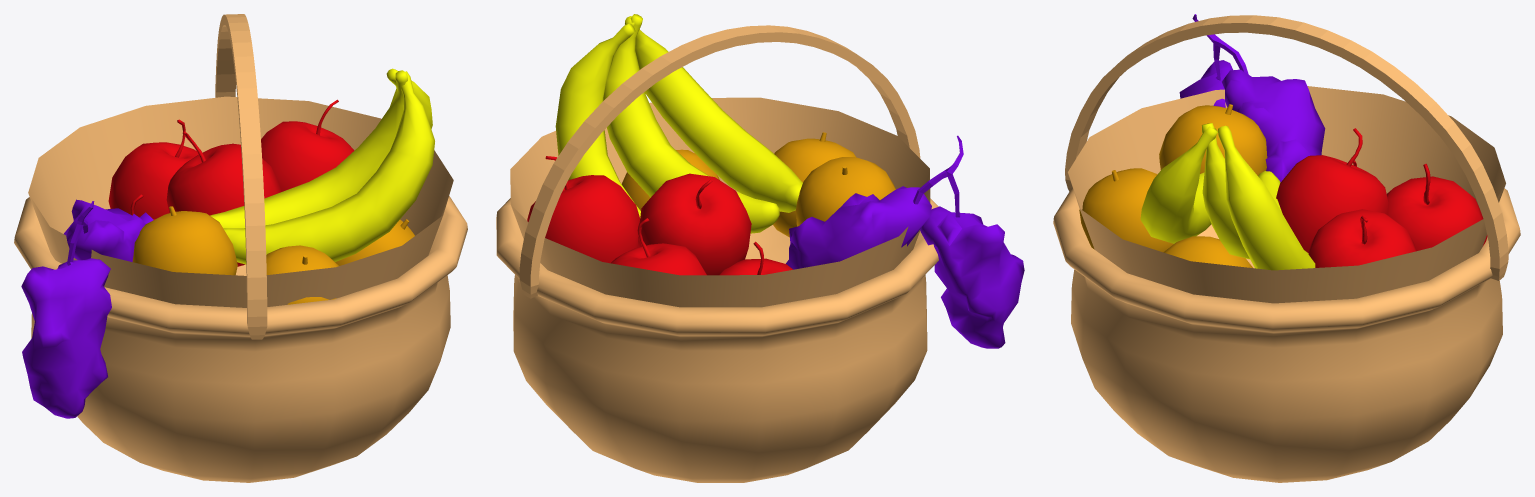
The model's file is tile_cornucopia.fbx.
3 renders of one model, left to right at view 1: azimuth 30°, elevation 25°; view 2: azimuth 150°, elevation 25°; view 3: azimuth 270°, elevation 25°, orthographic. The views are drawn at different scales.
Visible parts, largest first — view 1: Vert.004; view 2: Vert.004; view 3: Vert.004.
Part boxes in pixels (box(x1,y1,x2,y2)): Vert.004: box(14, 14, 467, 482); Vert.004: box(496, 14, 1024, 482); Vert.004: box(1053, 14, 1520, 482).
Size of the model in its own units: 1.16 by 1.01 by 1.
